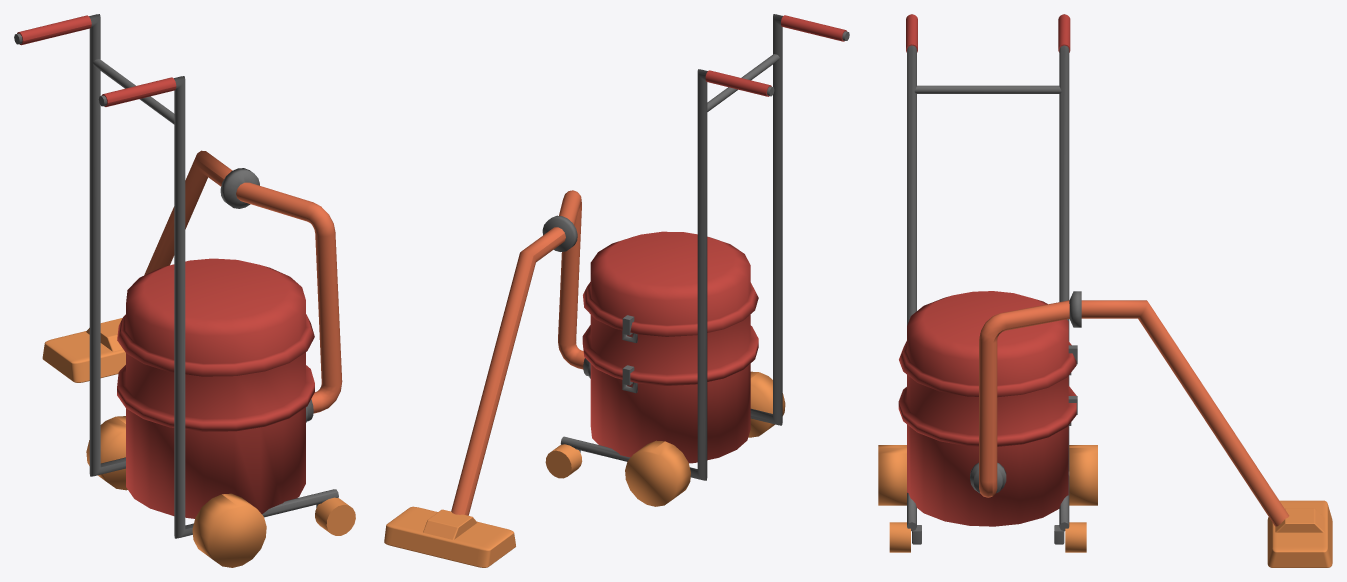
The model's file is Vacuum Cleaners.glb.
3 views of the same model, side by side, from view 1: azimuth 30°, elevation 25°; view 2: azimuth 150°, elevation 25°; view 3: azimuth 270°, elevation 25° (orthographic). The views are drawn at different scales.
Parts seen in each view (by area): view 1: Cylindrical Lathe (×4), Spline (×4), Cylinder (×4), Cube (×2); view 2: Cylindrical Lathe (×4), Spline (×4), Cube (×2), Cylinder (×4); view 3: Cylindrical Lathe (×3), Spline (×4), Cube (×2), Cylinder (×3).
Part boxes in pixels (x1,y1,x2,y2): Cylindrical Lathe (×4): (86,168,314,567); Spline (×4): (14,14,342,538); Cylinder (×4): (17,15,355,535); Cube (×2): (42,318,125,382); Cylindrical Lathe (×4): (542,215,785,506); Spline (×4): (451,14,849,515); Cube (×2): (384,506,515,567); Cylinder (×4): (545,15,846,478); Cylindrical Lathe (×3): (878,291,1097,526); Spline (×4): (907,14,1289,531); Cube (×2): (1267,500,1332,567); Cylinder (×3): (889,85,1086,552).
Size of the model in its own units: 0.74 by 1.19 by 1.12.
